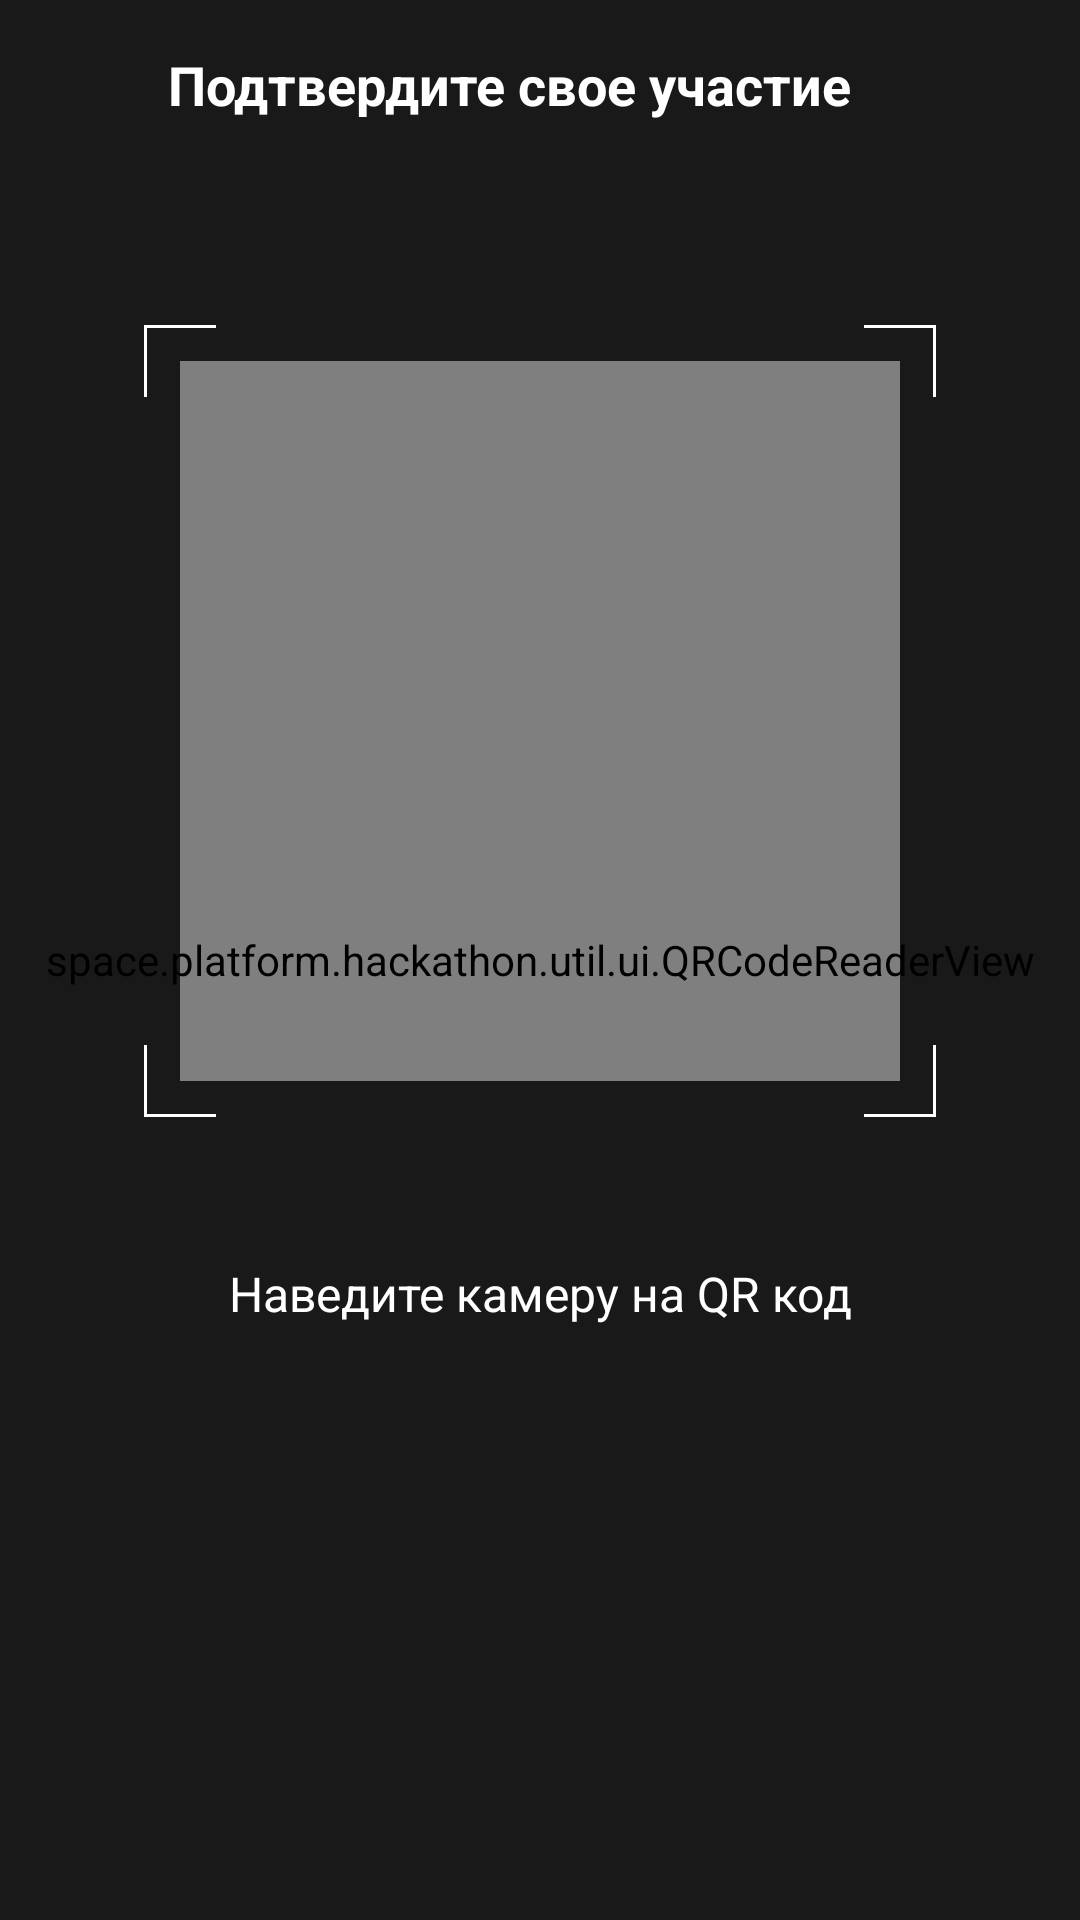

Icons on this 1080x1920 Android screen, each with the point to tap as point (x, y):
left bottom angle: point (180, 1081)
left top angle: point (180, 361)
right bottom angle: point (900, 1081)
right top angle: point (900, 361)
